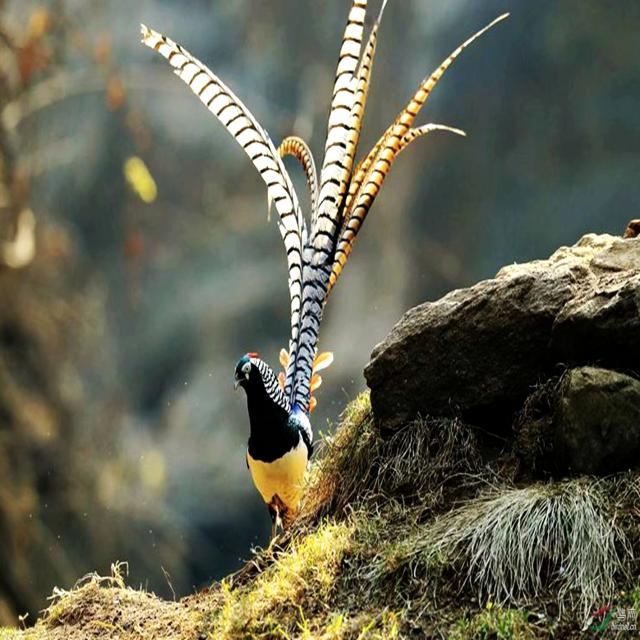Chrysolophus amherstiae: (141, 0, 508, 409)
